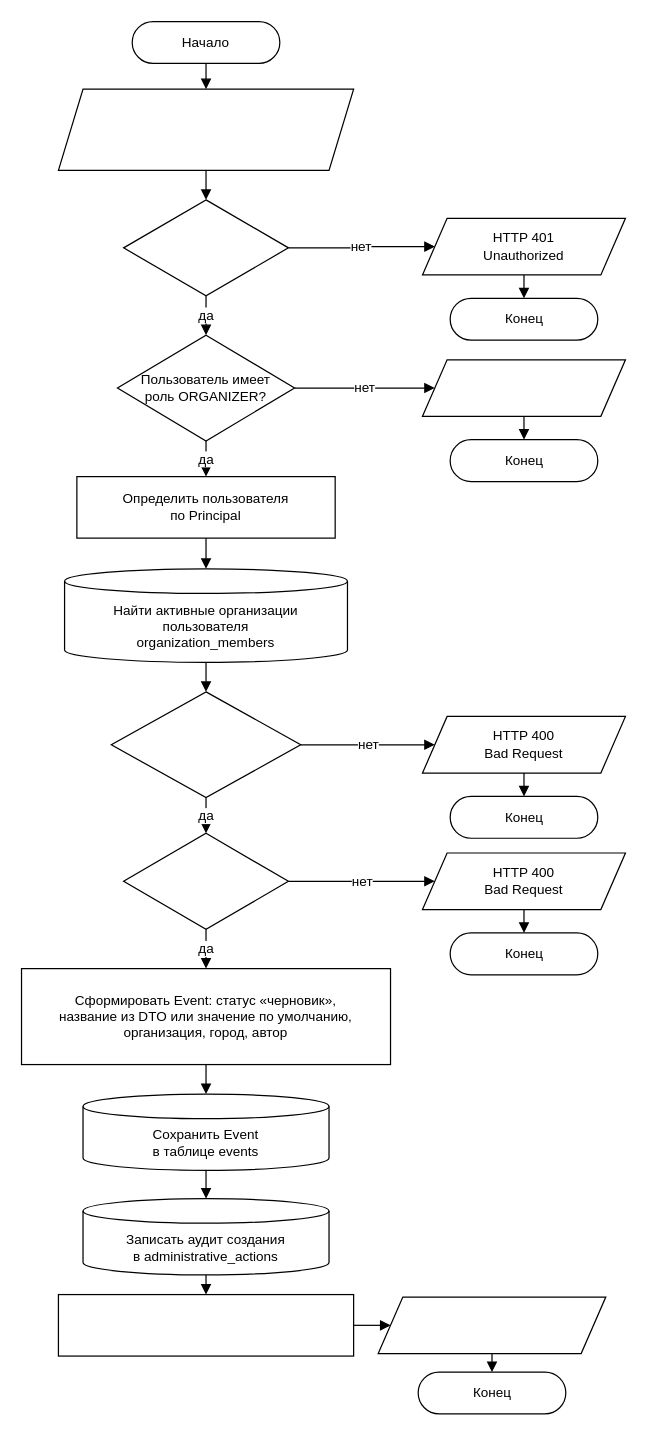
This 647x1435 diagram has some shape labels left out. The centre of each missing label's shape, as x and y in pixels:
HTTP 201 Created с телом ответа: the point at 491,1325
HTTP 403 Forbidden: the point at 523,387
JWT-токен действителен?: the point at 205,247
Найдена ровно одна организация?: the point at 205,744
Получен POST-запрос /api/organizer/events/wizard с данными черновика: the point at 205,129
Сформировать ответ OrganizerEventWizardResponse: the point at 205,1324
У организации задан город?: the point at 205,880
